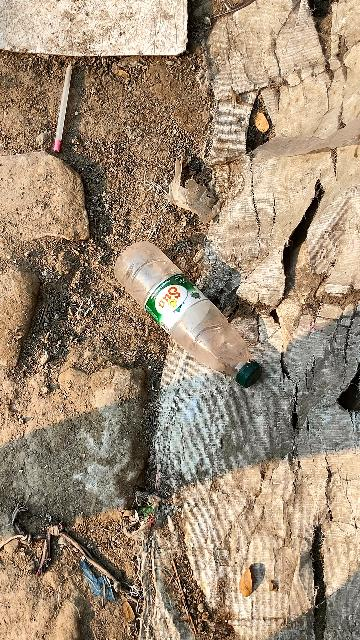bottle: (102, 222, 276, 404)
